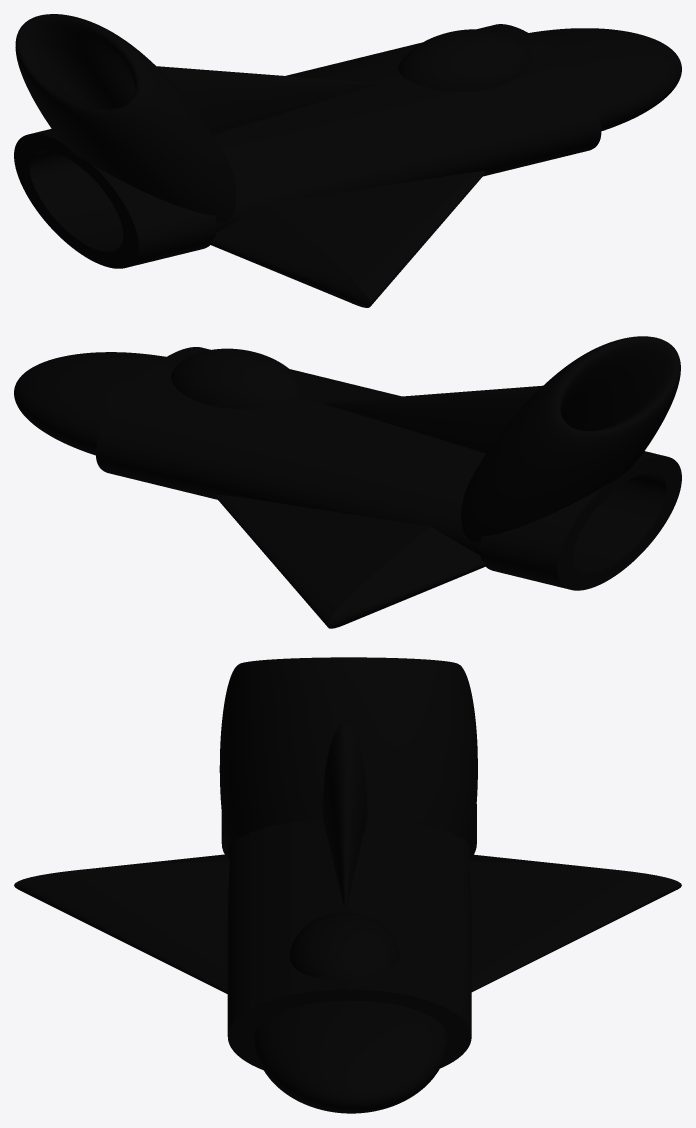
File: Nebulizer3000.fbx
The picture shows the model from 3 angles, top to bottom: view 1: azimuth 30°, elevation 25°; view 2: azimuth 150°, elevation 25°; view 3: azimuth 270°, elevation 25°; orthographic projection. The views are drawn at different scales.
Parts seen in each view (by area): view 1: root (×6), node_id423, node_id422; view 2: root (×6), node_id423, node_id422; view 3: root (×5), node_id423, node_id422.
Part boxes in pixels (x1,y1,x2,y2): root (×6): [14, 14, 681, 268]; node_id423: [265, 171, 486, 307]; node_id422: [208, 204, 370, 307]; root (×6): [14, 336, 681, 590]; node_id423: [214, 494, 430, 627]; node_id422: [327, 526, 487, 628]; root (×5): [219, 657, 477, 1113]; node_id423: [14, 861, 681, 993]; node_id422: [96, 854, 681, 889].
Bounding box in the file's own units: 0.9289 × 0.296 × 0.8397.
Materials: 8 (7 with a texture image).
